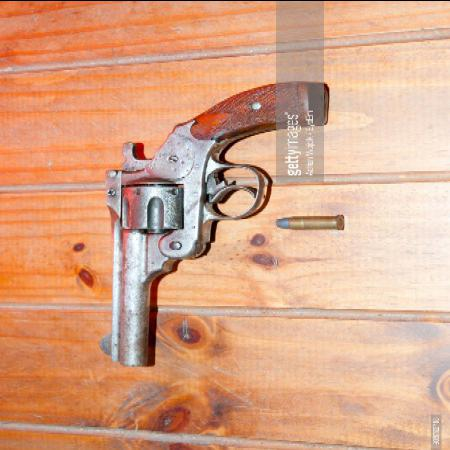Pistol: (95, 76, 329, 368)
